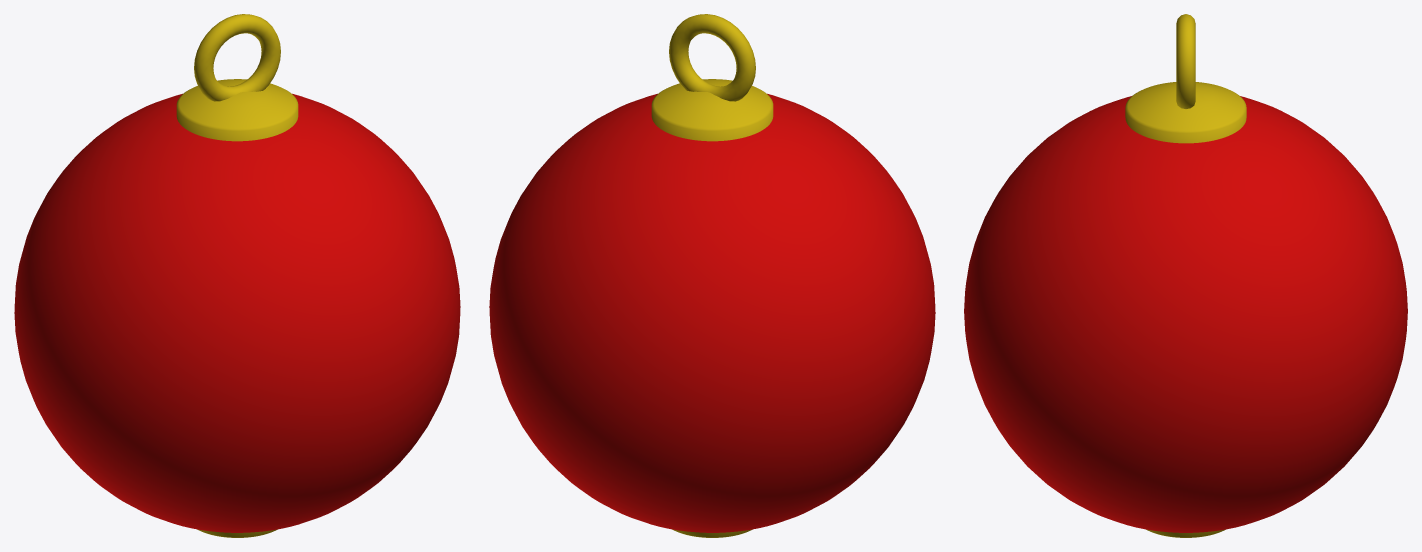
Rendered from bola.obj.
The picture shows the model from 3 angles, left to right: view 1: azimuth 30°, elevation 25°; view 2: azimuth 150°, elevation 25°; view 3: azimuth 270°, elevation 25°; orthographic projection.
Parts seen in each view (by area): view 1: Sphere; view 2: Sphere; view 3: Sphere.
Boxes of the visible parts, <box> form: Sphere: <box>14,14,460,537</box>; Sphere: <box>489,14,935,537</box>; Sphere: <box>964,14,1407,537</box>.
Size of the model in its own units: 2 by 2.5 by 2.
